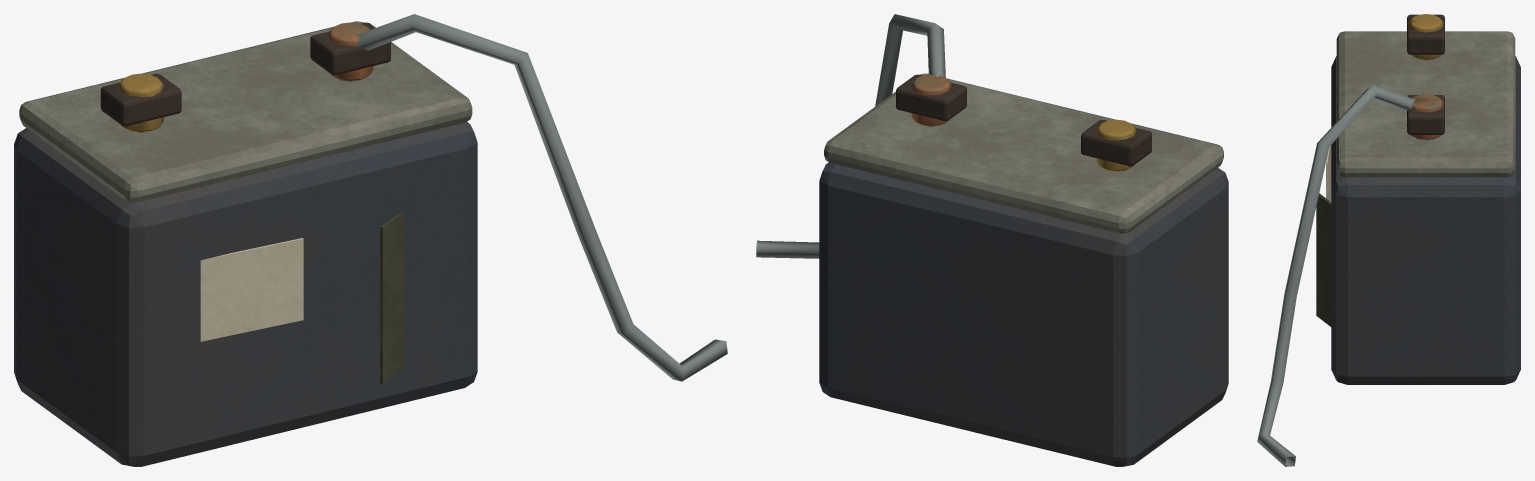
The model's file is prop_battery_01.gltf.
3 renders of one model, left to right at view 1: azimuth 30°, elevation 25°; view 2: azimuth 150°, elevation 25°; view 3: azimuth 270°, elevation 25°, orthographic. The views are drawn at different scales.
Parts seen in each view (by area): view 1: prop_battery_01_item_atlas_01; view 2: prop_battery_01_item_atlas_01; view 3: prop_battery_01_item_atlas_01.
Part boxes in pixels (x1,y1,x2,y2): prop_battery_01_item_atlas_01: (14,14,727,466); prop_battery_01_item_atlas_01: (756,14,1228,466); prop_battery_01_item_atlas_01: (1257,14,1520,466).
Bounding box in the file's own units: 0.191 × 0.1178 × 0.0974.
1 material, 1 textured.
